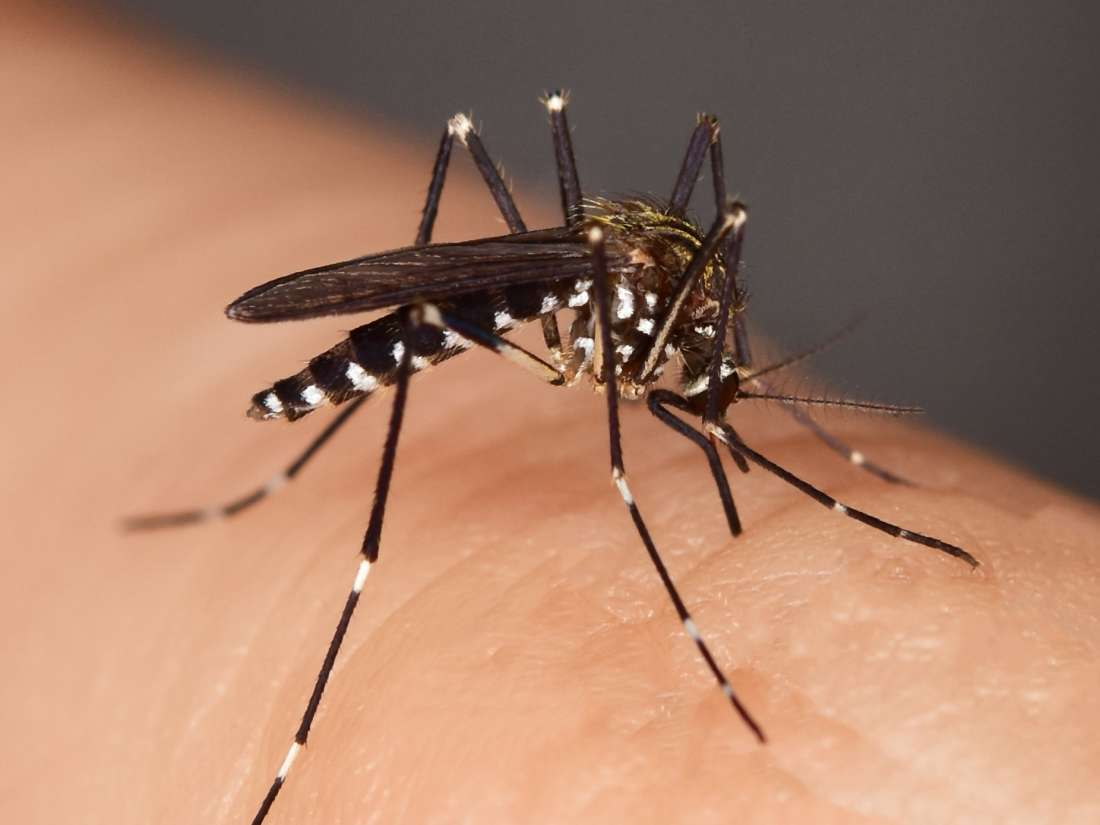mosquito: (175, 83, 996, 816)
